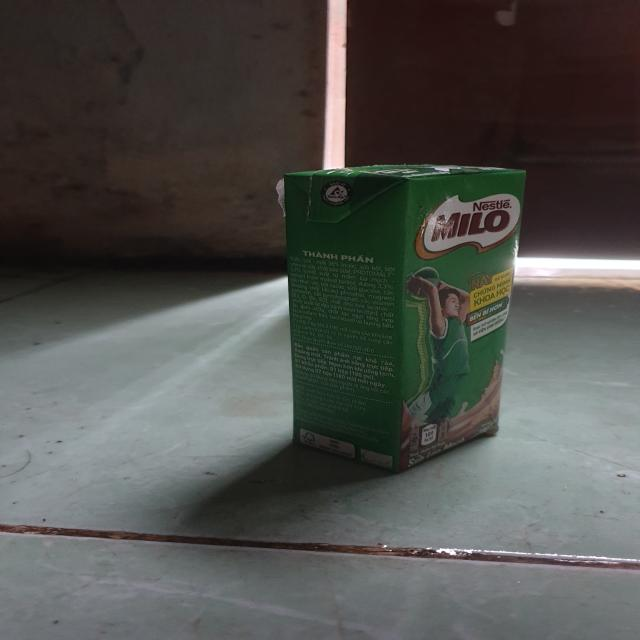Milo: (272, 154, 538, 477)
